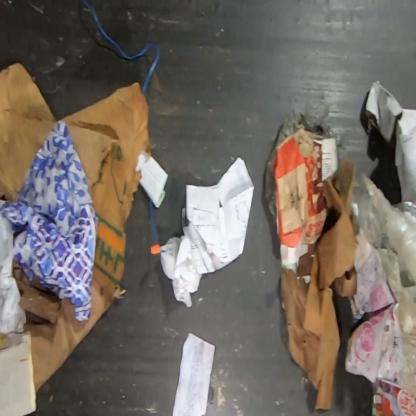cardboard: (0, 60, 151, 394), (279, 158, 358, 411), (270, 124, 328, 248)
soft_plastic: (351, 176, 415, 415), (264, 102, 352, 231)
